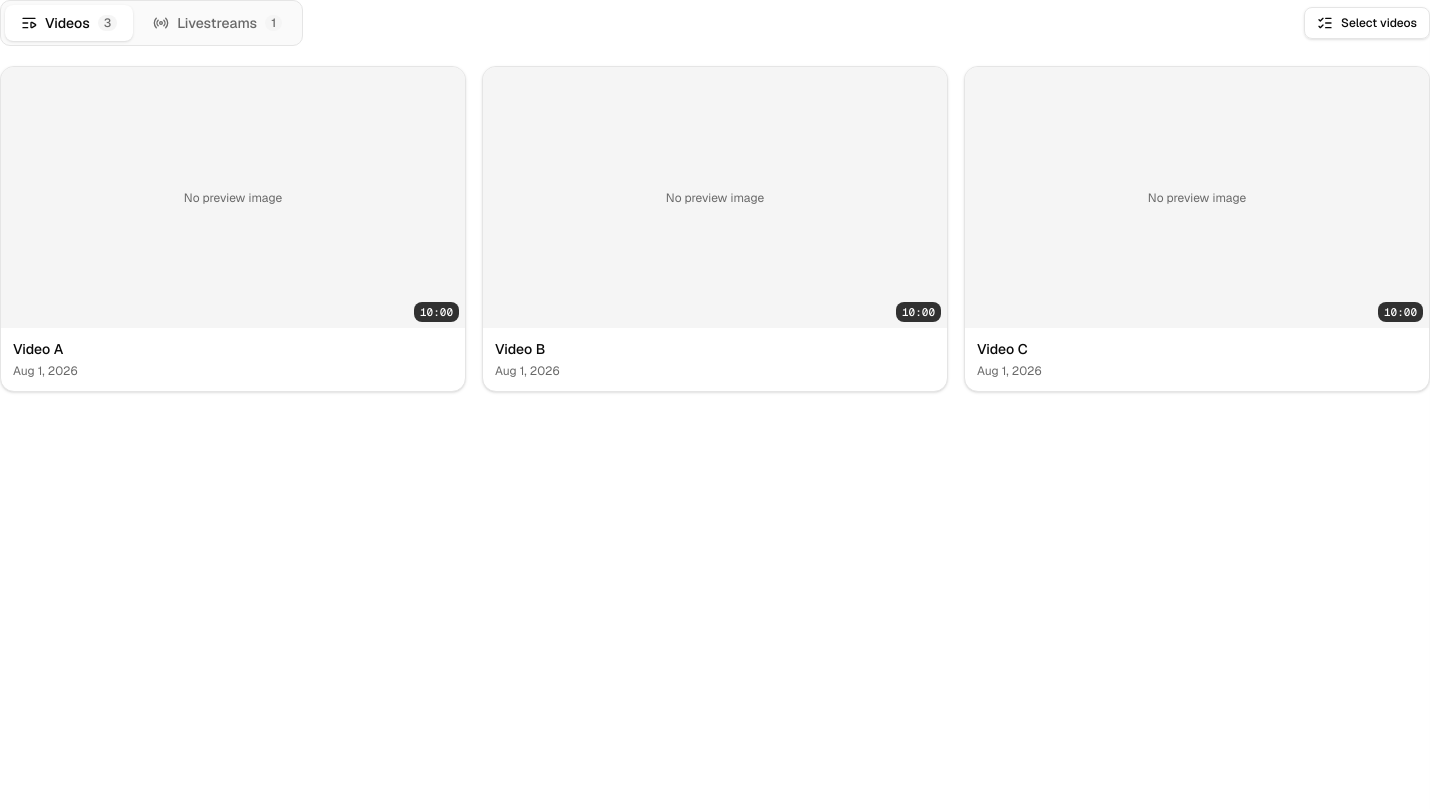
Test: SelectableFeed › closes the chat when the selection empties out
The image size is (1440, 810).
Click the button "Select videos".
click(1367, 23)  # box [1304,7,1430,39]
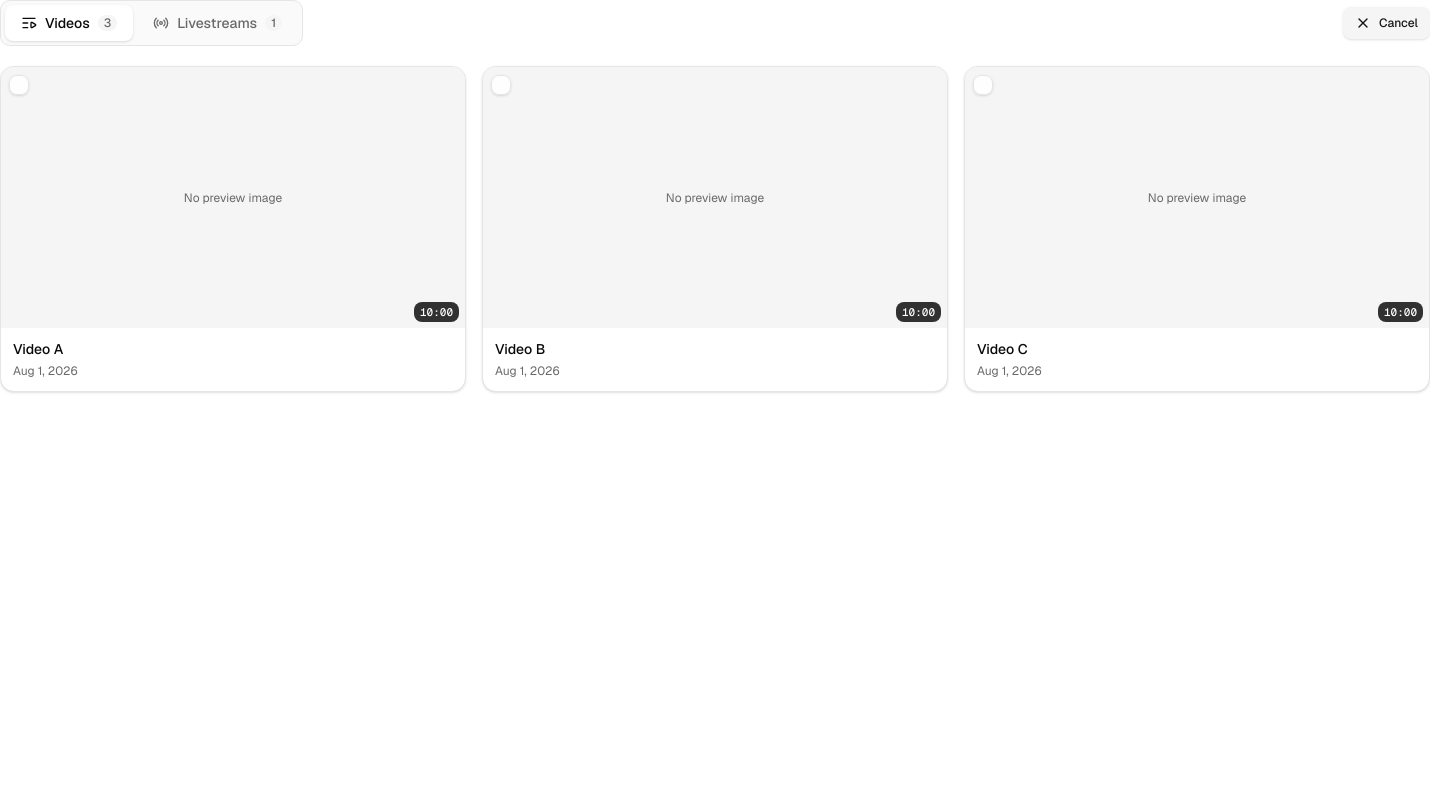
Click the checkbox named "Select Video A".
click(19, 85)  # box [9,75,29,95]
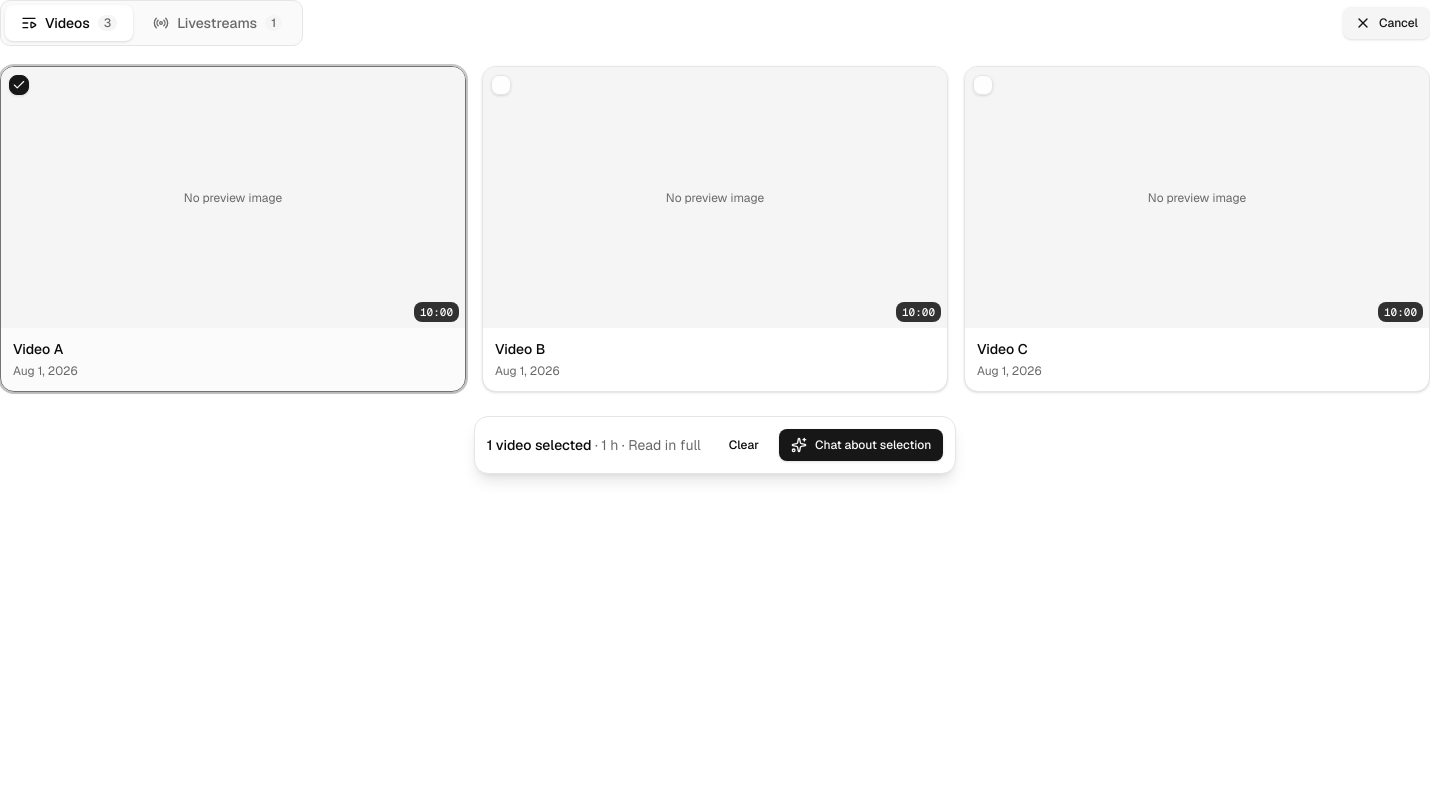
Click the button "Chat about selection".
click(861, 445)  # box [779,429,943,461]
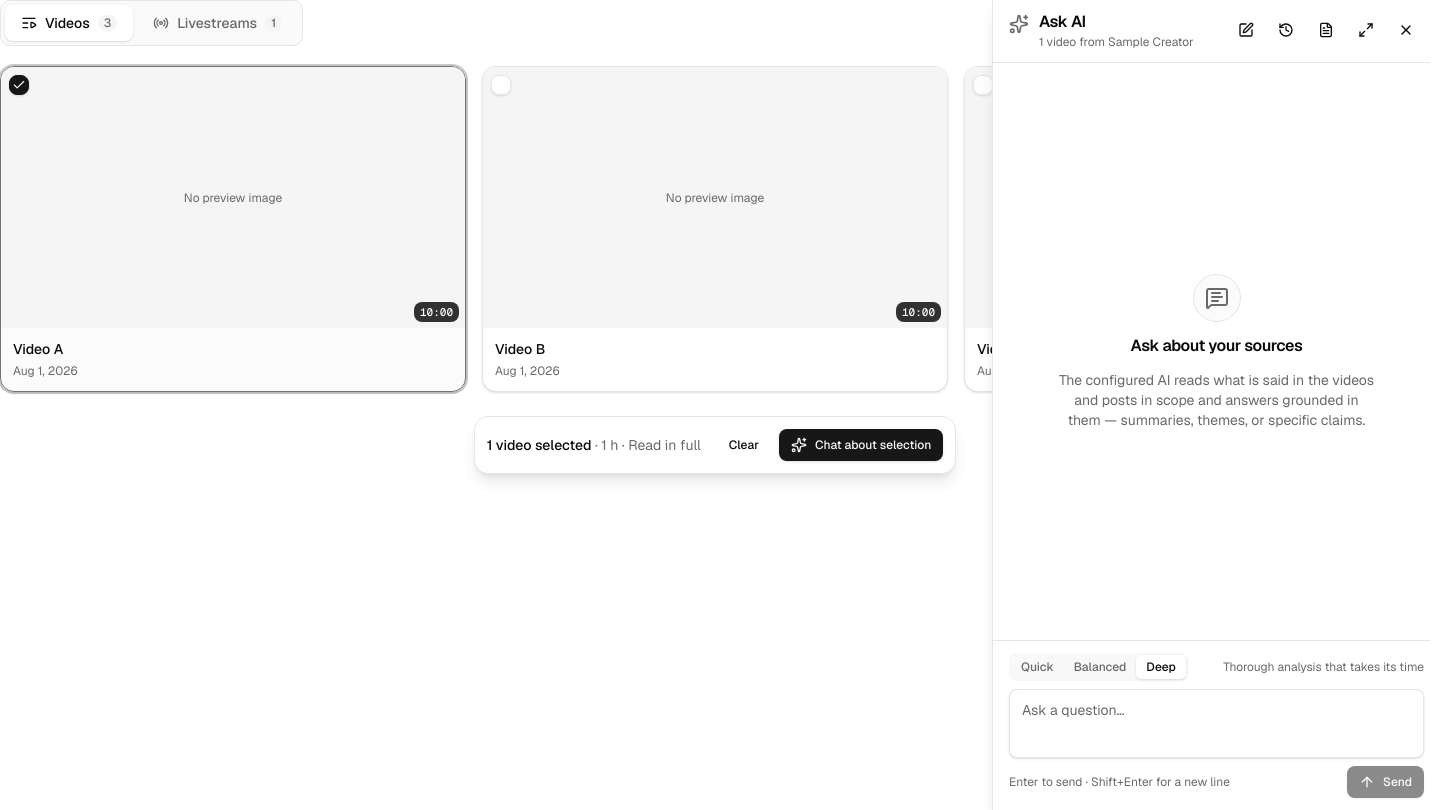
Check: the element "Ask AI" does not have attribute inert, box [992,0,1439,809]
Click the checkbox named "Select Video A".
click(19, 85)  # box [9,75,29,95]
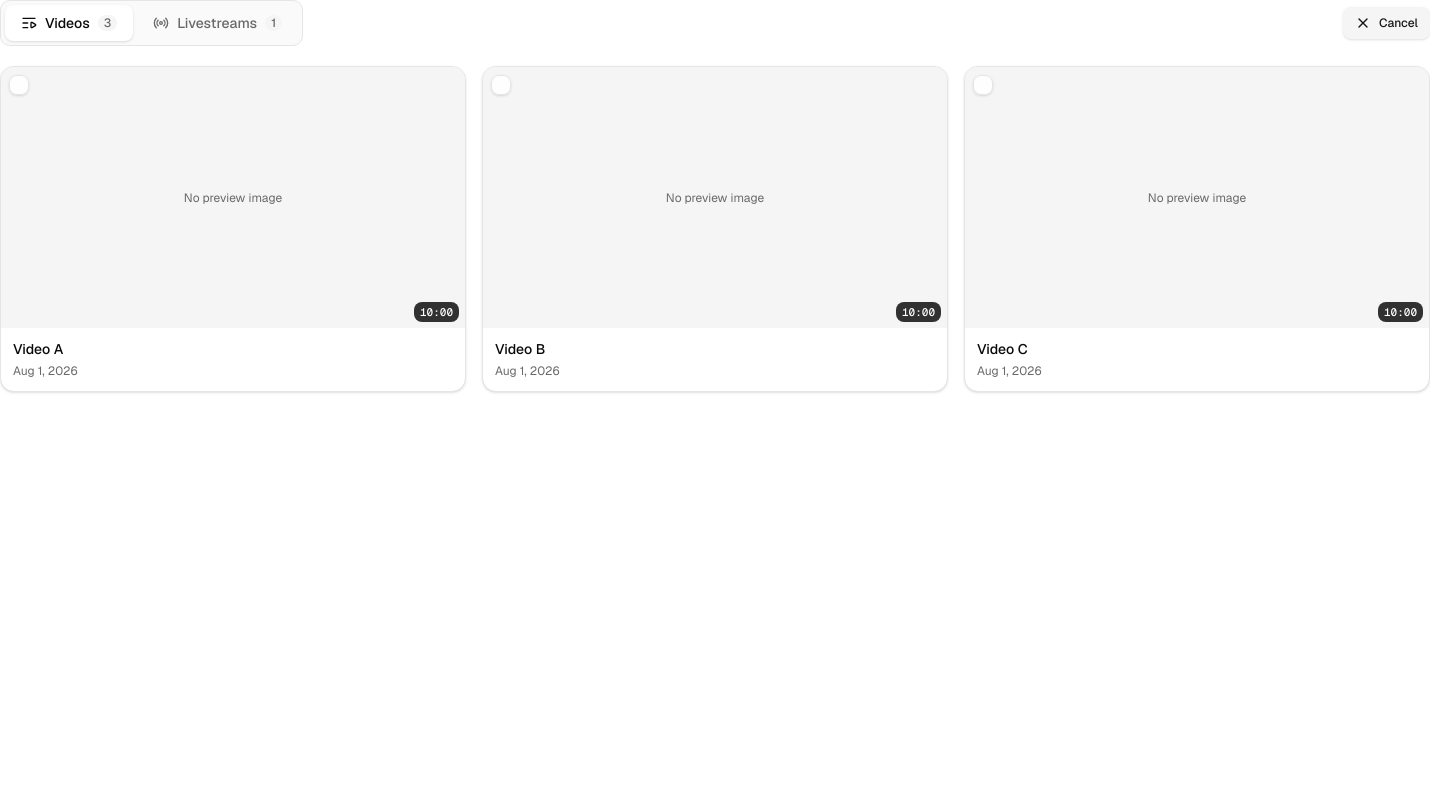
Check: the text "selected" is gone
